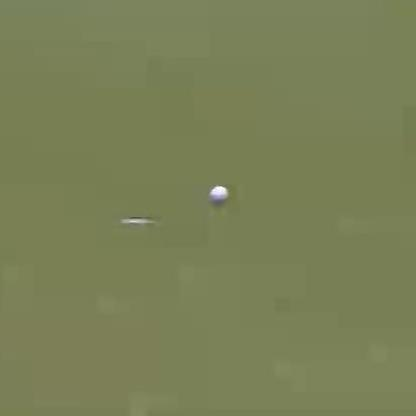golfball: (207, 183, 227, 201)
